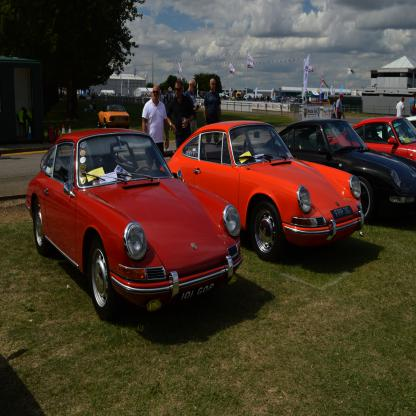Car: (29, 130, 236, 321), (157, 113, 367, 263), (258, 117, 415, 220), (328, 112, 416, 164), (94, 103, 128, 129)
